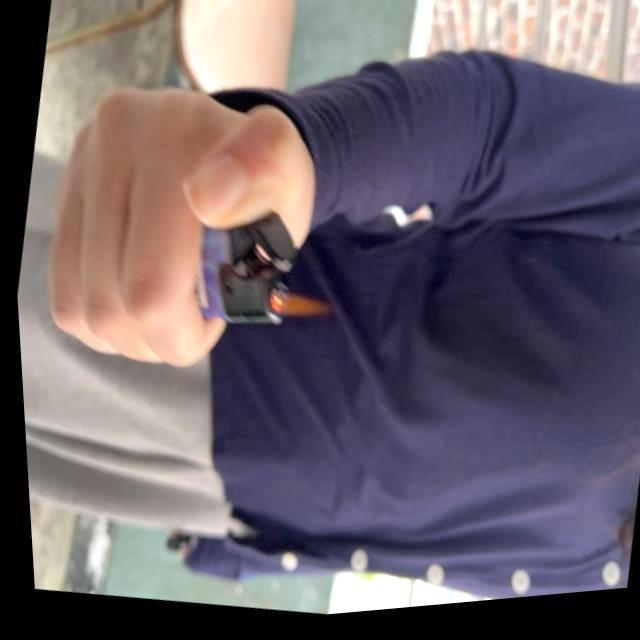fire: (266, 288, 334, 330)
